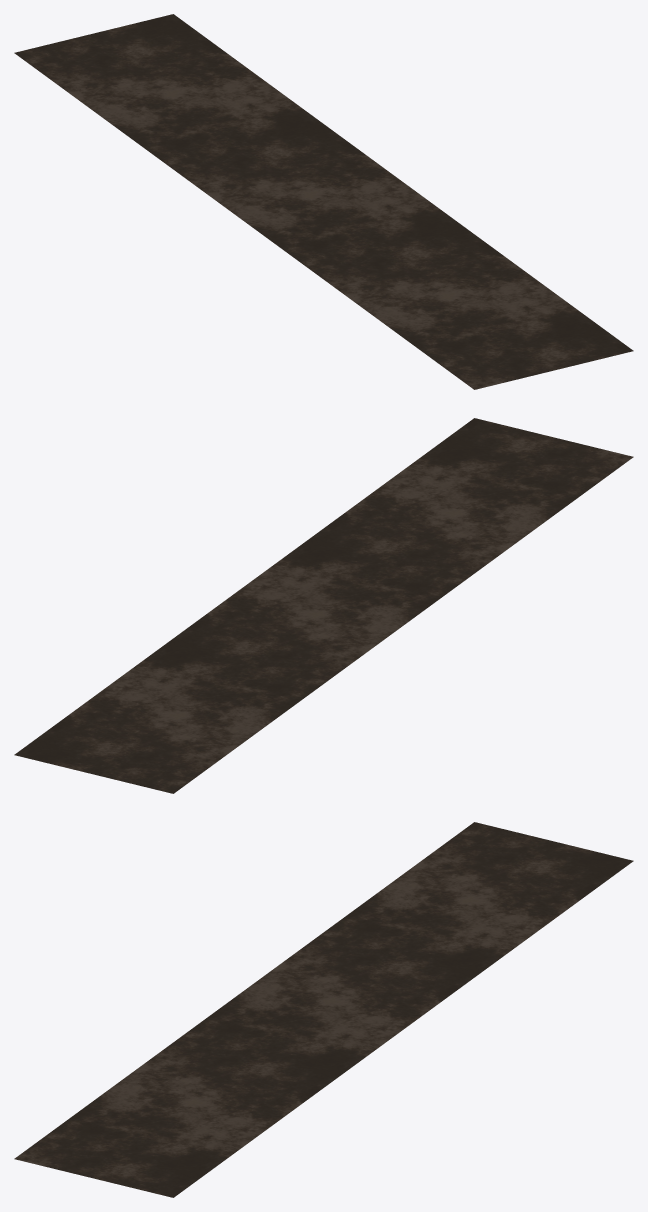
Rendered from floor_-2_-14.glb.
The picture shows the model from 3 angles, top to bottom: view 1: azimuth 30°, elevation 25°; view 2: azimuth 150°, elevation 25°; view 3: azimuth 330°, elevation 25°; orthographic projection.
Parts seen in each view (by area): view 1: floor_-2_-14; view 2: floor_-2_-14; view 3: floor_-2_-14.
Part boxes in pixels (x1,y1,x2,y2): floor_-2_-14: (14, 14, 633, 389); floor_-2_-14: (14, 418, 633, 793); floor_-2_-14: (14, 822, 633, 1197).
Bounding box in the file's own units: 4 × 0 × 20.
1 material, 1 textured.
